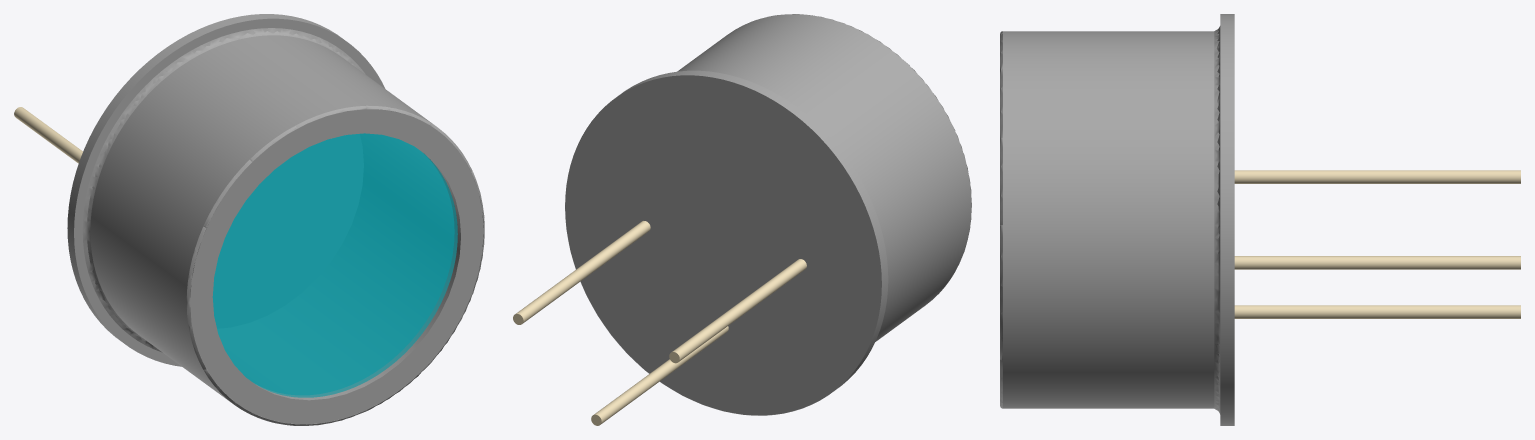
Rendered from TO-8-3_Window.glb.
3 views of the same model, side by side, from view 1: azimuth 30°, elevation 25°; view 2: azimuth 150°, elevation 25°; view 3: azimuth 270°, elevation 25° (orthographic). The views are drawn at different scales.
Parts seen in each view (by area): view 1: Shape_IndexedFaceSet.004, Shape_IndexedFaceSet.018, Shape_IndexedFaceSet.003, Shape_IndexedFaceSet.017, Shape_IndexedFaceSet, Shape_IndexedFaceSet.016, Shape_IndexedFaceSet.006, Shape_IndexedFaceSet.005, Shape_IndexedFaceSet.007, Shape_IndexedFaceSet.001, Shape_IndexedFaceSet.002, Shape_IndexedFaceSet.009; view 2: Shape_IndexedFaceSet.008, Shape_IndexedFaceSet.003, Shape_IndexedFaceSet.007, Shape_IndexedFaceSet.010, Shape_IndexedFaceSet.012, Shape_IndexedFaceSet.009, Shape_IndexedFaceSet.011; view 3: Shape_IndexedFaceSet.003, Shape_IndexedFaceSet.007, Shape_IndexedFaceSet.009, Shape_IndexedFaceSet.011, Shape_IndexedFaceSet.012, Shape_IndexedFaceSet.005, Shape_IndexedFaceSet.001.
Part boxes in pixels (x1,y1,x2,y2): Shape_IndexedFaceSet.004: (212,133,457,397); Shape_IndexedFaceSet.018: (213,133,454,394); Shape_IndexedFaceSet.003: (90,35,483,424); Shape_IndexedFaceSet.017: (190,109,453,395); Shape_IndexedFaceSet: (190,109,483,424); Shape_IndexedFaceSet.016: (213,134,363,327); Shape_IndexedFaceSet.006: (74,18,385,366); Shape_IndexedFaceSet.005: (82,28,365,352); Shape_IndexedFaceSet.007: (67,14,342,340); Shape_IndexedFaceSet.001: (186,105,484,425); Shape_IndexedFaceSet.002: (257,154,460,400); Shape_IndexedFaceSet.009: (14,107,82,163); Shape_IndexedFaceSet.008: (565,75,881,415); Shape_IndexedFaceSet.003: (677,14,971,341); Shape_IndexedFaceSet.007: (565,70,888,415); Shape_IndexedFaceSet.010: (739,171,840,259); Shape_IndexedFaceSet.012: (516,221,650,323); Shape_IndexedFaceSet.009: (672,259,806,361); Shape_IndexedFaceSet.011: (594,326,728,424); Shape_IndexedFaceSet.003: (1003,31,1214,408); Shape_IndexedFaceSet.007: (1220,14,1234,425); Shape_IndexedFaceSet.009: (1234,170,1520,183); Shape_IndexedFaceSet.011: (1234,305,1520,318); Shape_IndexedFaceSet.012: (1234,256,1520,269); Shape_IndexedFaceSet.005: (1214,26,1220,414); Shape_IndexedFaceSet.001: (1000,31,1002,408).
Bounding box in the file's own units: 5.67 × 5.67 × 7.17.
